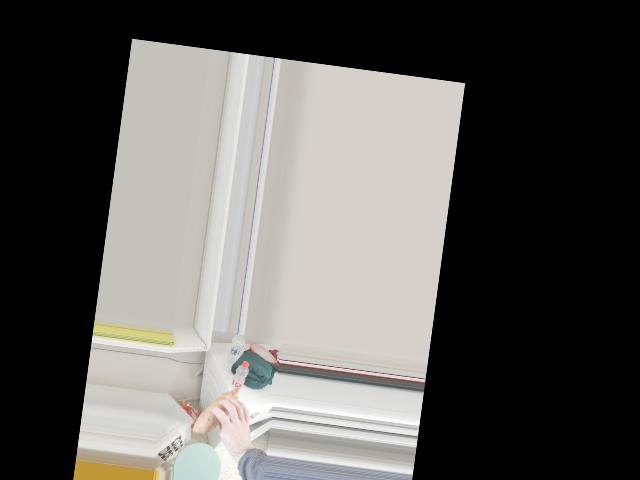sweet_potato: (195, 385, 250, 433)
